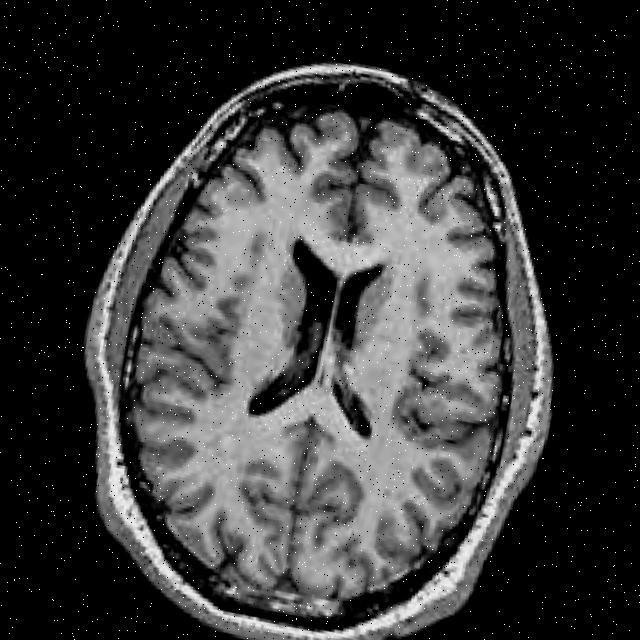NoTumor: (37, 17, 606, 640)
